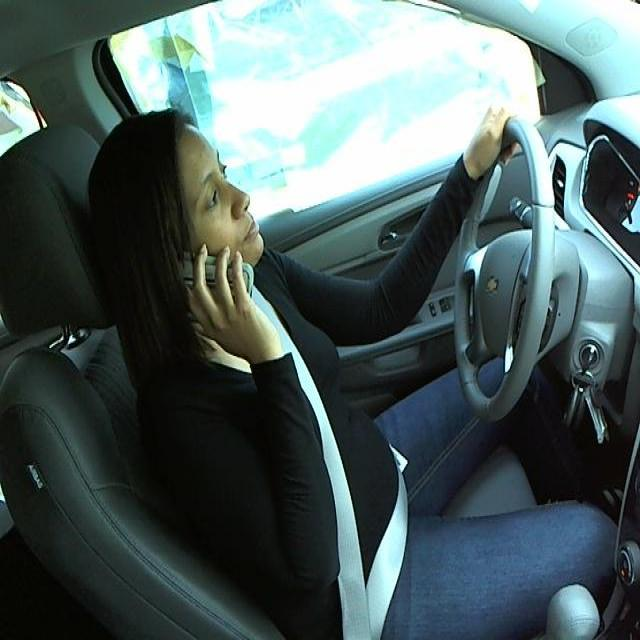using_phone: (87, 106, 299, 347)
